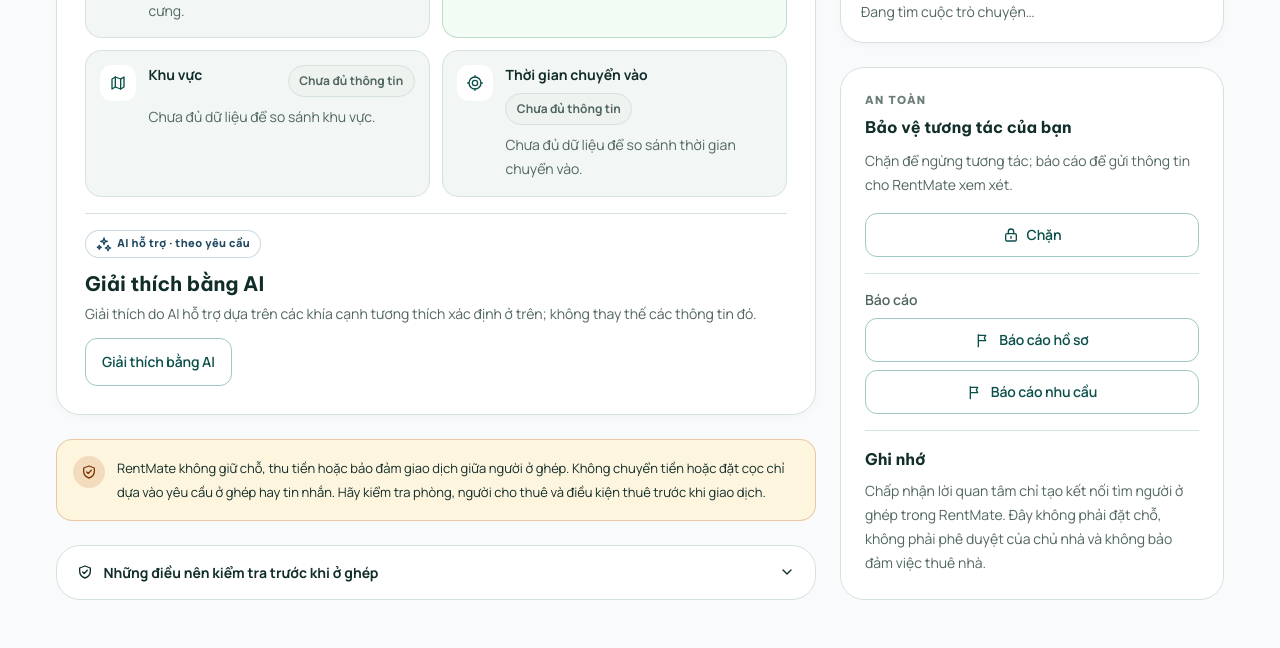
RoommateRequestDetailPage › reconciles a null AI response without a provider-failure UI or stale explanation
The image size is (1280, 648).
(page scrolled)
Click the button "Giải thích bằng AI" at (158, 362), box [85,338,232,386]
(page scrolled)
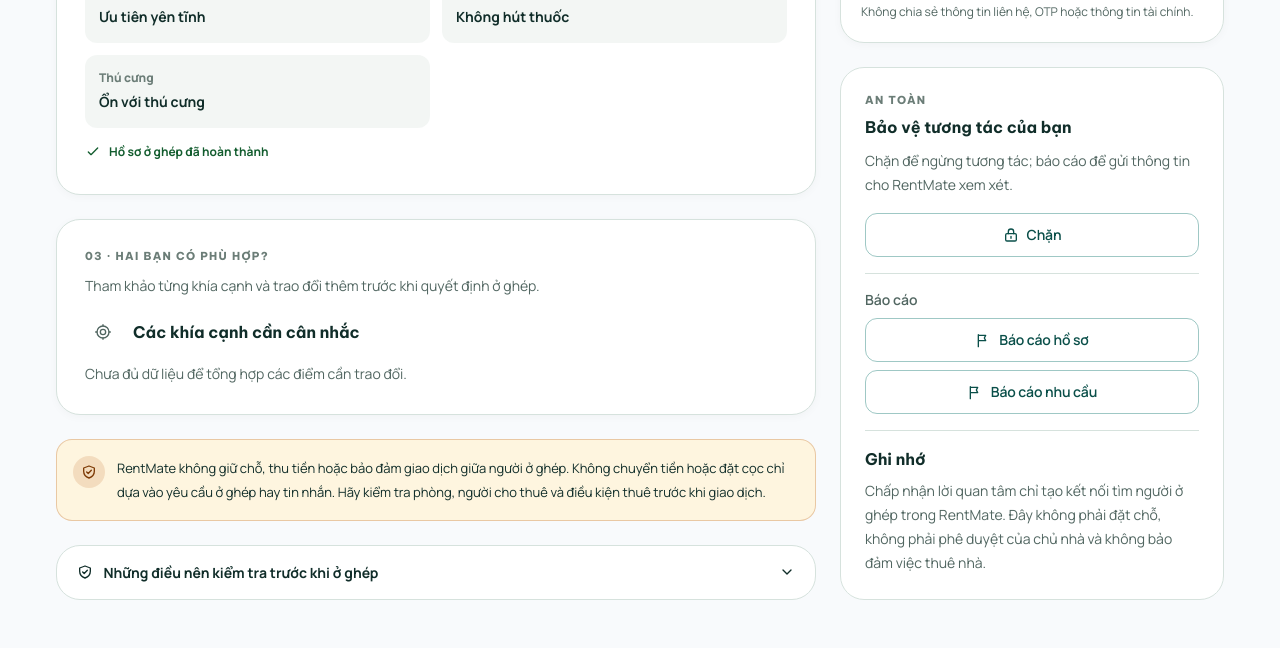
Result: the text "Giải thích do AI hỗ trợ" is gone
Result: the text "Chưa đủ dữ liệu để tổng hợp các điểm cần trao đổi." is shown at [85,364,407,383]
